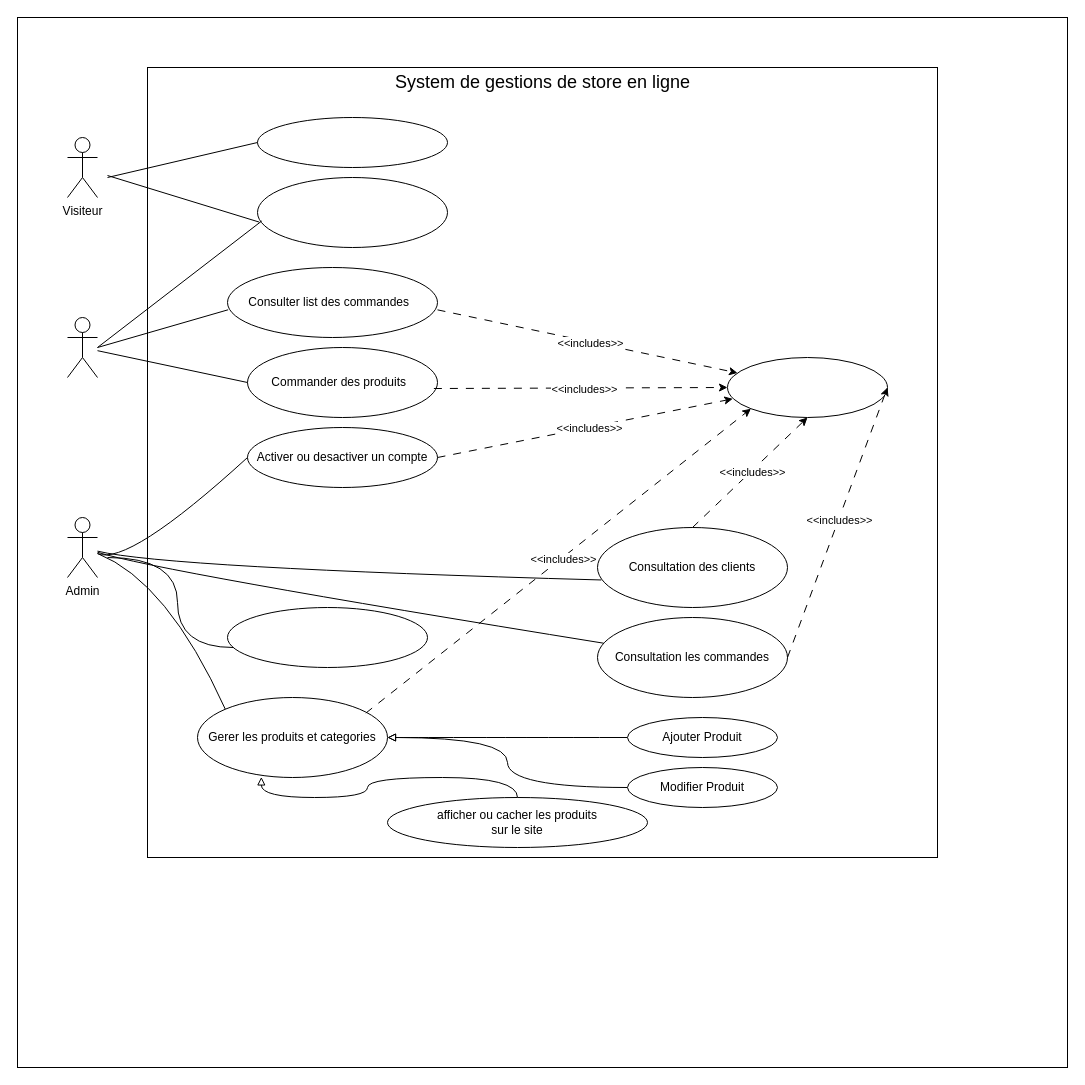
Image size: 1085x1085. Some labels were removed from this diagram. The centre of each missing label's shape, as x and y in pixels:
"Client" belongs at point 82,347.
"Consultation les Produits et les categories" belongs at point 352,212.
"Consulter les statistiques de site" belongs at point 327,637.
"Creer un nouveaux compte" belongs at point 352,142.
"S'authentifier" belongs at point 807,387.
